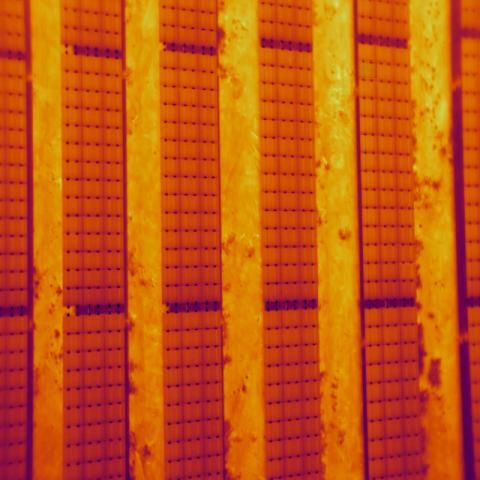fault: (359, 62, 377, 78)
